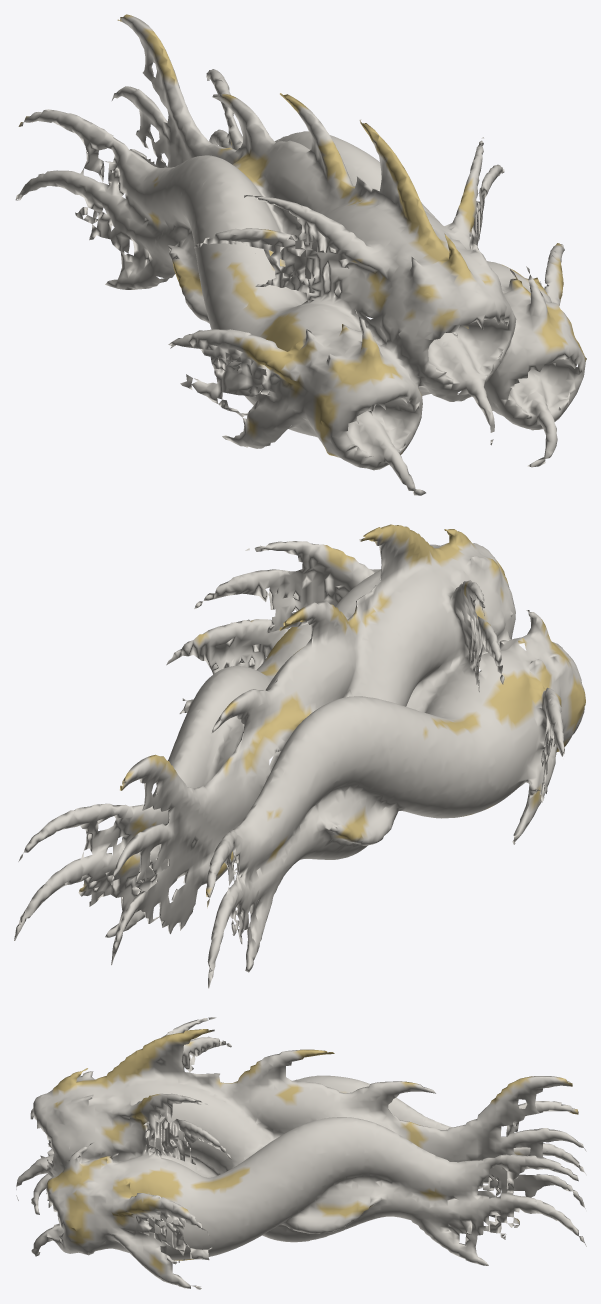
The model's file is mon3d.glb.
3 views of the same model, one above another, from view 1: azimuth 30°, elevation 25°; view 2: azimuth 150°, elevation 25°; view 3: azimuth 270°, elevation 25° (orthographic). The views are drawn at different scales.
Size of the model in its own units: 1.18 by 0.8016 by 1.96.
